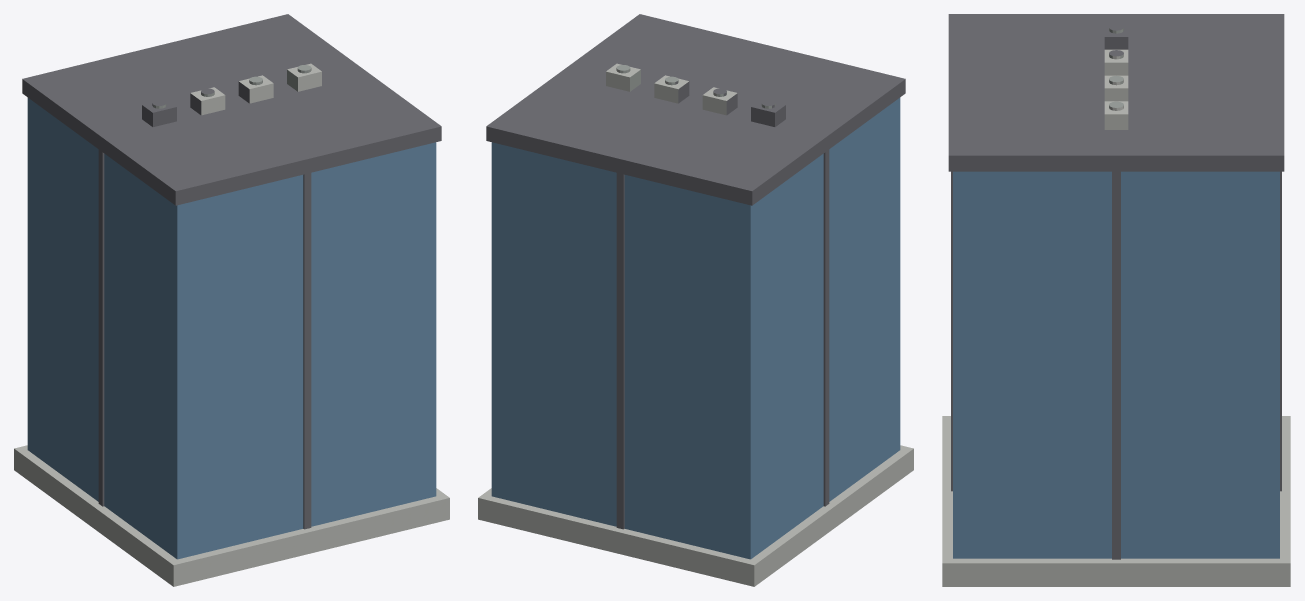
Rendered from office_midrise_glass.glb.
3 views of the same model, side by side, from view 1: azimuth 30°, elevation 25°; view 2: azimuth 150°, elevation 25°; view 3: azimuth 270°, elevation 25° (orthographic). The views are drawn at different scales.
Parts seen in each view (by area): view 1: office_midrise_glass; view 2: office_midrise_glass; view 3: office_midrise_glass.
Boxes of the visible parts, x1=… form: office_midrise_glass: x1=14, y1=14, x2=449, y2=586; office_midrise_glass: x1=478, y1=14, x2=913, y2=586; office_midrise_glass: x1=942, y1=14, x2=1290, y2=586.
Bounding box in the file's own units: 16 × 22.65 × 16.
